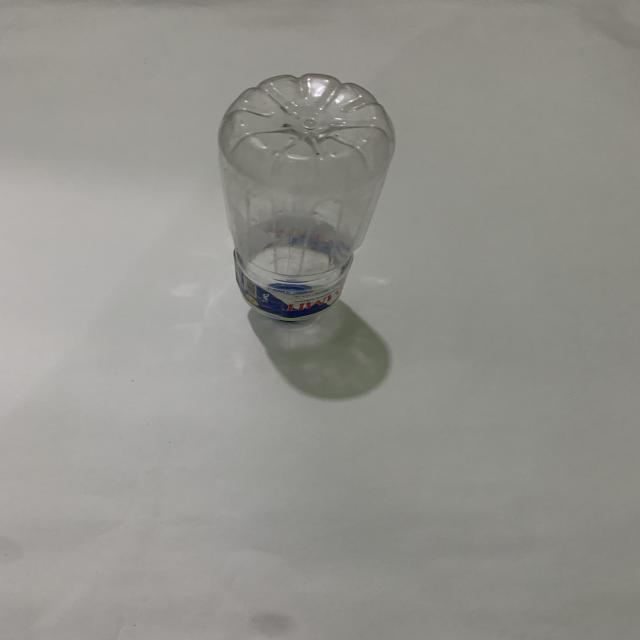bottle: (191, 58, 417, 345)
